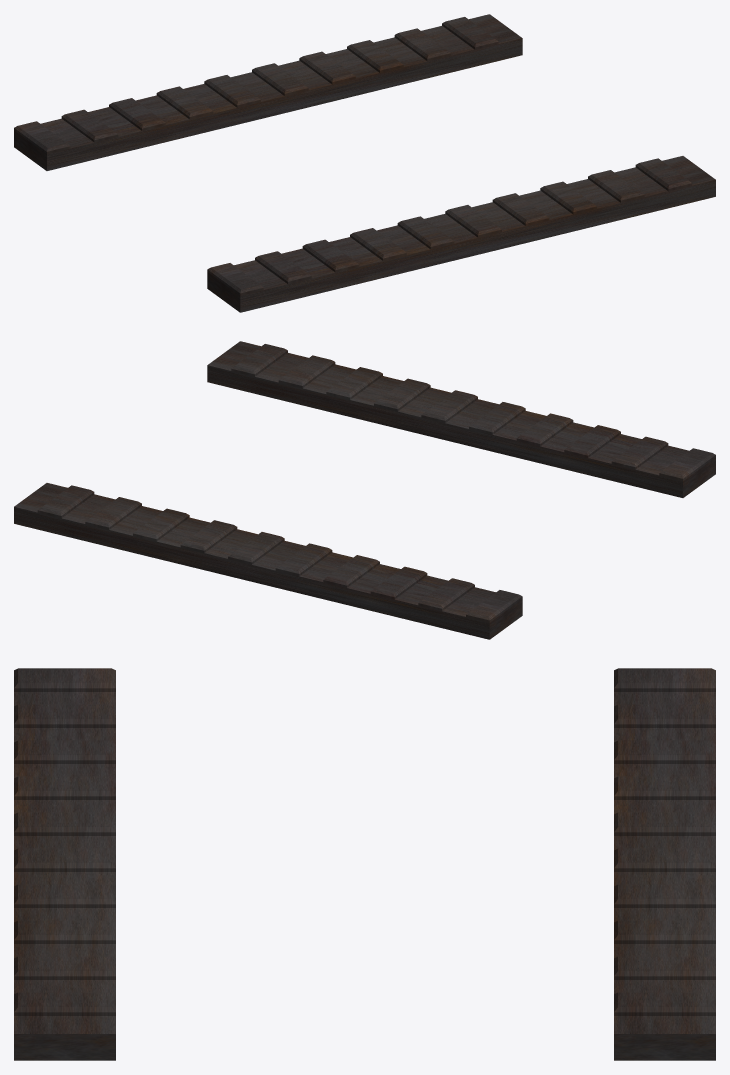
Rendered from Belt.fbx.
3 renders of one model, top to bottom at view 1: azimuth 30°, elevation 25°; view 2: azimuth 150°, elevation 25°; view 3: azimuth 270°, elevation 25°, orthographic. The views are drawn at different scales.
Parts seen in each view (by area): view 1: pCube11, pCube12; view 2: pCube12, pCube11; view 3: pCube12, pCube11.
Boxes of the visible parts, left/top/right/bottom form: pCube11: left=14, top=14, right=522, bottom=170; pCube12: left=207, top=156, right=715, bottom=312; pCube12: left=207, top=341, right=715, bottom=497; pCube11: left=14, top=483, right=522, bottom=639; pCube12: left=14, top=668, right=115, bottom=1060; pCube11: left=614, top=668, right=715, bottom=1060.
Bounding box in the file's own units: 49.49 × 2.16 × 40.77.
Materials: 1 (1 with a texture image).
